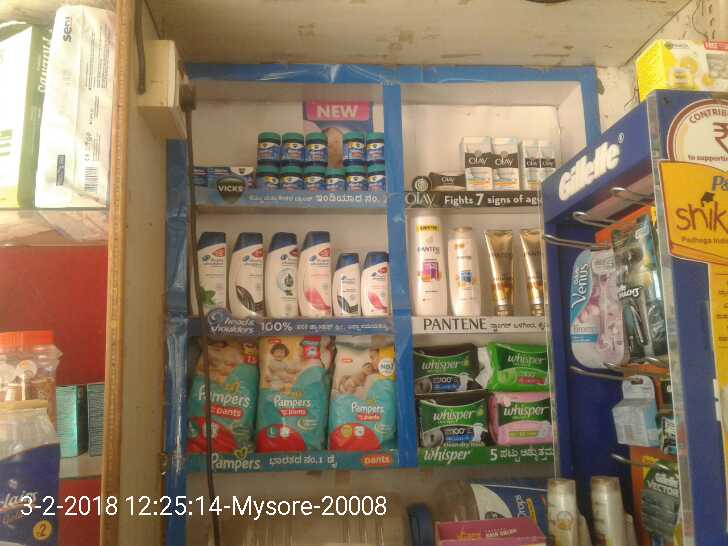beauty: (570, 256, 616, 369), (618, 246, 660, 358), (446, 226, 487, 316), (226, 232, 267, 321), (413, 210, 446, 319), (267, 232, 297, 322), (298, 232, 330, 316), (486, 230, 515, 315), (199, 232, 227, 316), (521, 228, 547, 316), (330, 251, 362, 319), (361, 249, 391, 319), (460, 134, 493, 193), (490, 135, 520, 194), (523, 141, 538, 188), (425, 171, 462, 189), (538, 142, 553, 178)
pharmacy: (185, 344, 256, 454), (259, 335, 327, 449), (330, 344, 398, 449), (415, 395, 485, 447), (489, 390, 551, 445), (415, 343, 480, 394), (489, 341, 550, 392), (255, 126, 279, 162), (304, 132, 330, 164), (340, 130, 362, 166), (282, 130, 305, 162), (364, 132, 385, 164), (280, 164, 304, 191), (303, 165, 327, 191), (366, 162, 384, 193), (344, 169, 367, 193), (256, 165, 279, 189), (326, 167, 344, 191)
